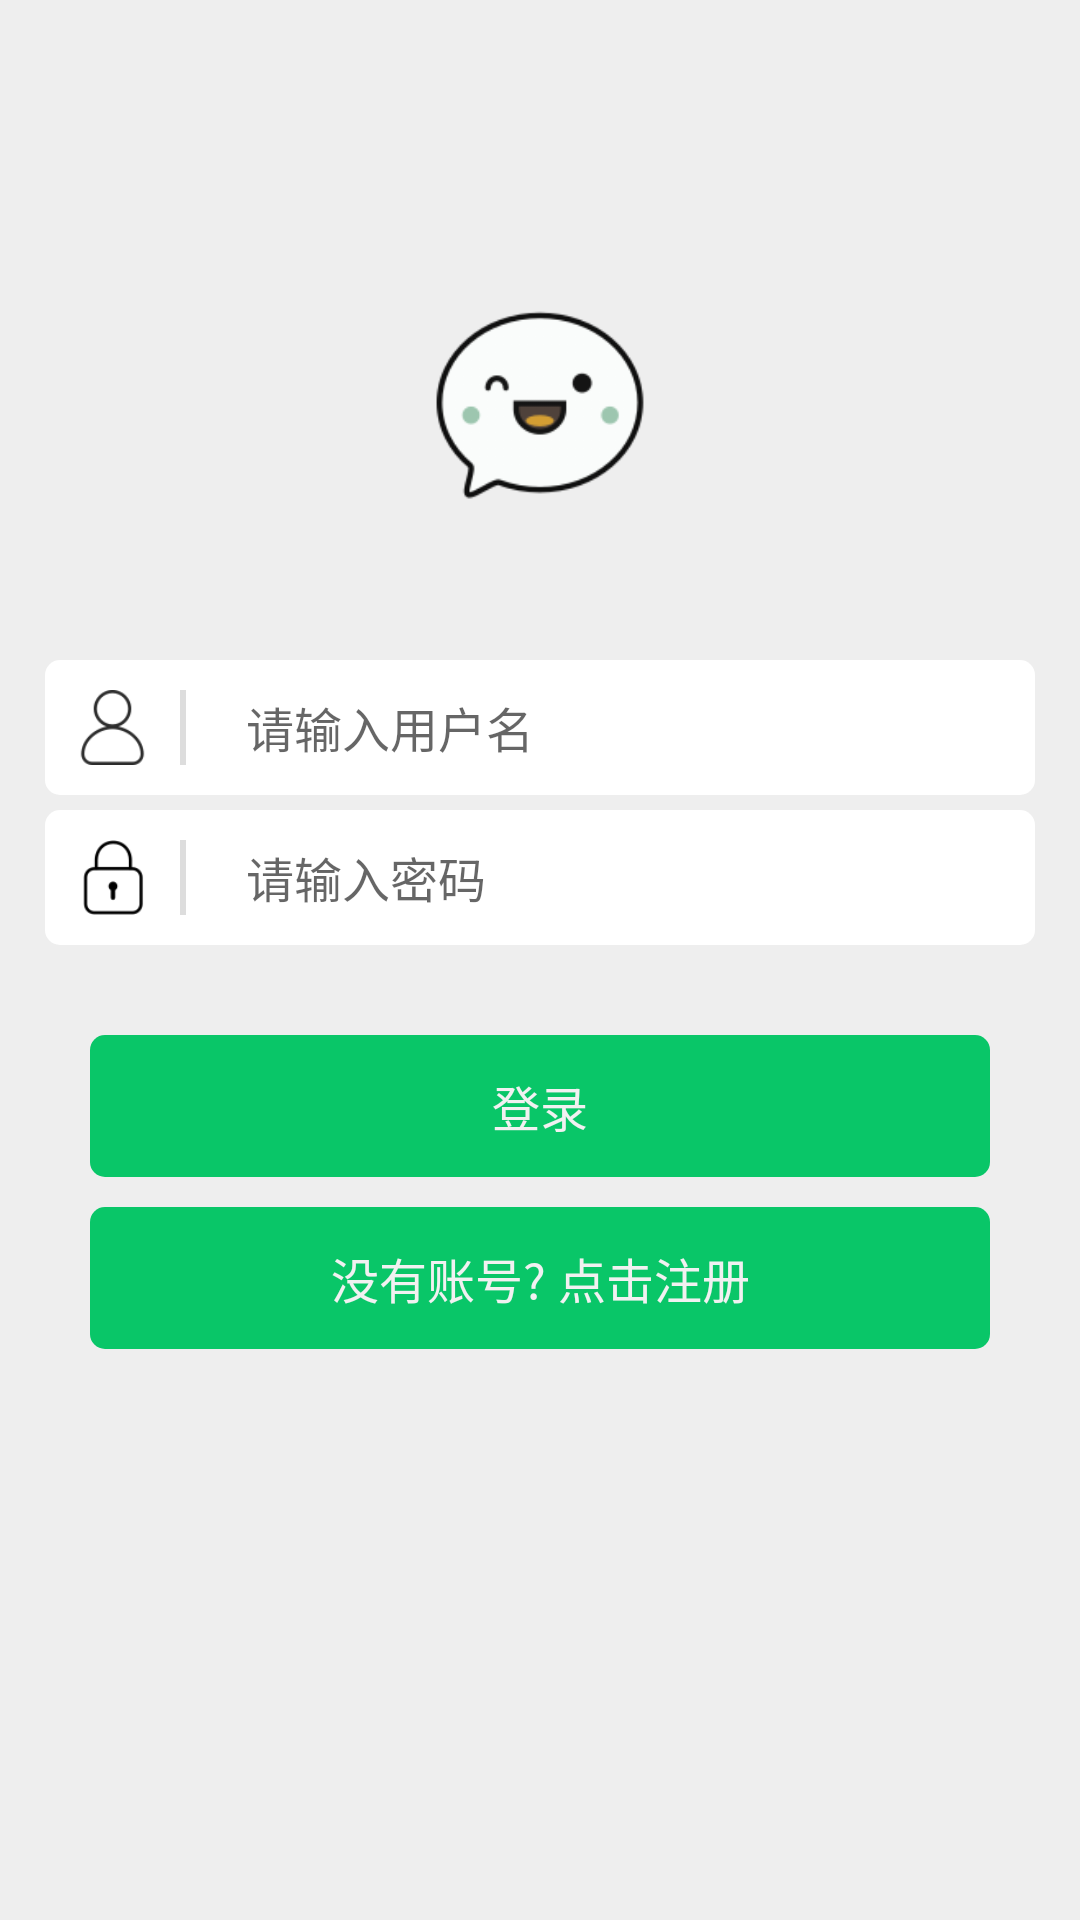

Where icons sit on this 1080 x 1920 app screen, as (x1, y1, x2, y2):
chat: (436, 311, 644, 499)
password login: (83, 840, 143, 915)
user login: (80, 690, 145, 765)
